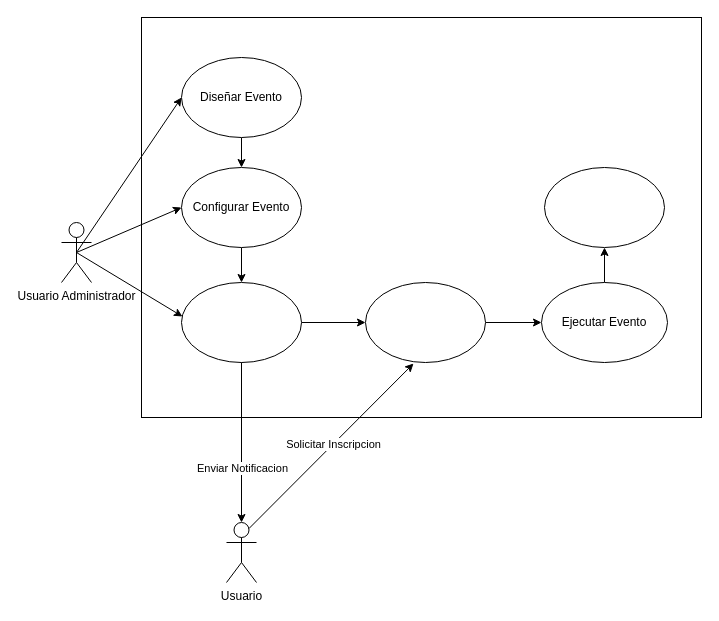
This 719x621 diagram has some shape labels left out. Here are the shapes that lost their labels. From the top down, the centre of each, then its label:
At point (604, 207): "Registrar y Reportar Evento".
At point (241, 322): "Publicar Evento".
At point (425, 322): "Inscribir Usuarios".
